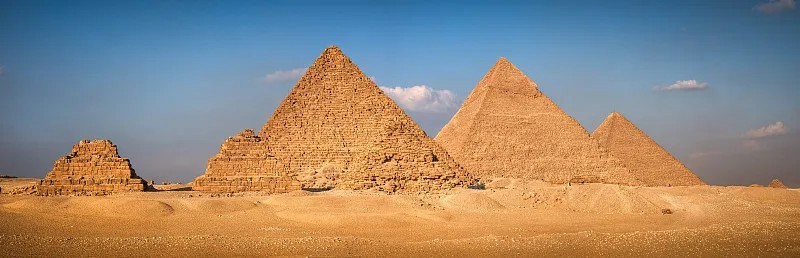Pyramid: (258, 45, 480, 186), (434, 57, 648, 187), (333, 110, 466, 188), (590, 112, 709, 186), (191, 129, 303, 198), (31, 138, 148, 195)
